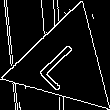L_NE: (35, 34, 93, 92)
